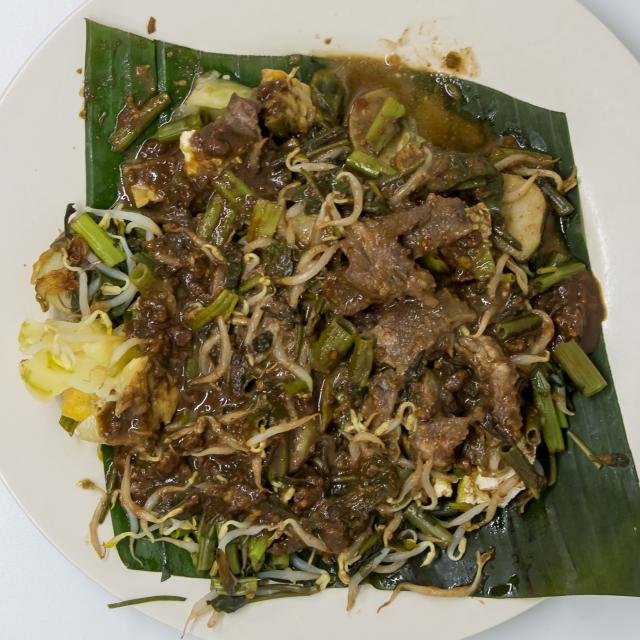Rujak-Cingur: (16, 48, 590, 598)
